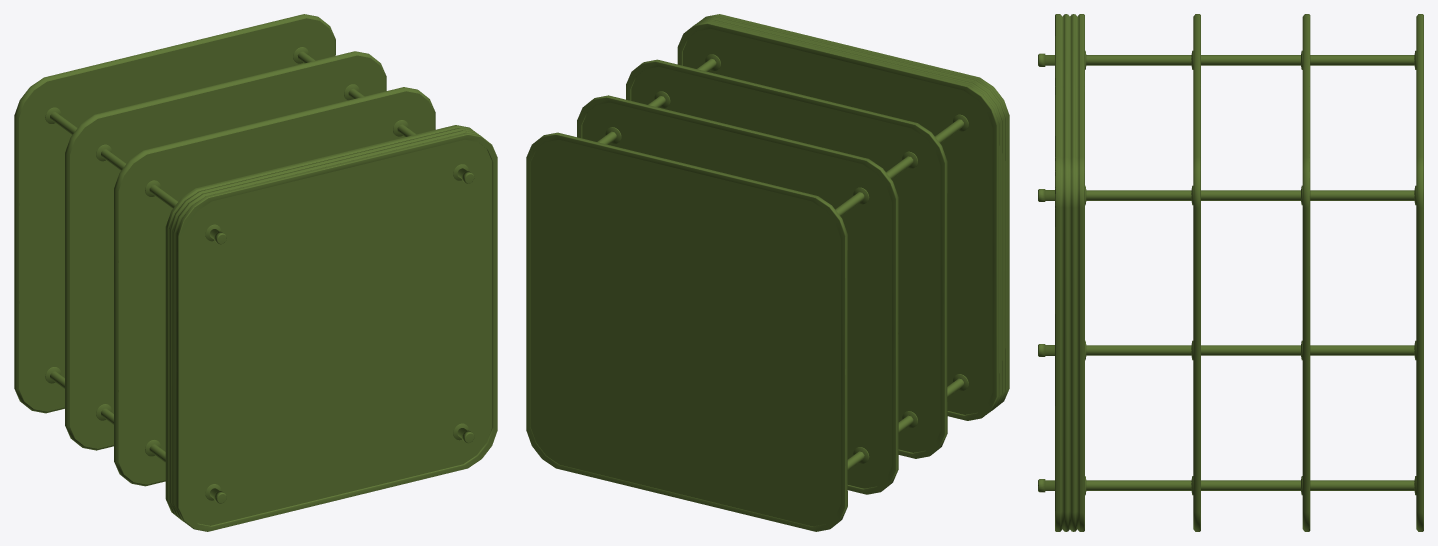
The model's file is SM_Tumba_01.fbx.
3 renders of one model, left to right at view 1: azimuth 30°, elevation 25°; view 2: azimuth 150°, elevation 25°; view 3: azimuth 270°, elevation 25°, orthographic. The views are drawn at different scales.
Visible parts, largest first — view 1: SM_Tumba_01; view 2: SM_Tumba_01; view 3: SM_Tumba_01.
Boxes of the visible parts, box(x1,y1,x2,y2) form: SM_Tumba_01: box(14, 14, 497, 531); SM_Tumba_01: box(526, 14, 1009, 531); SM_Tumba_01: box(1038, 14, 1423, 531).
Bounding box in the file's own units: 69.94 × 69.92 × 65.32.
